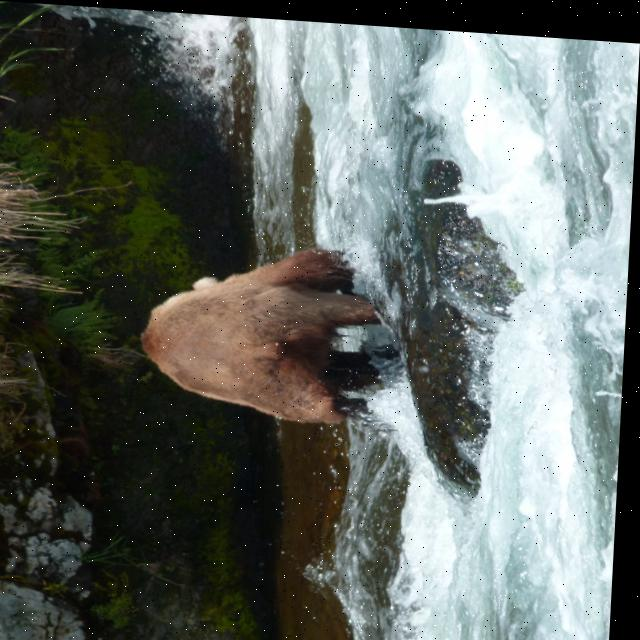bear face: (143, 237, 379, 420)
